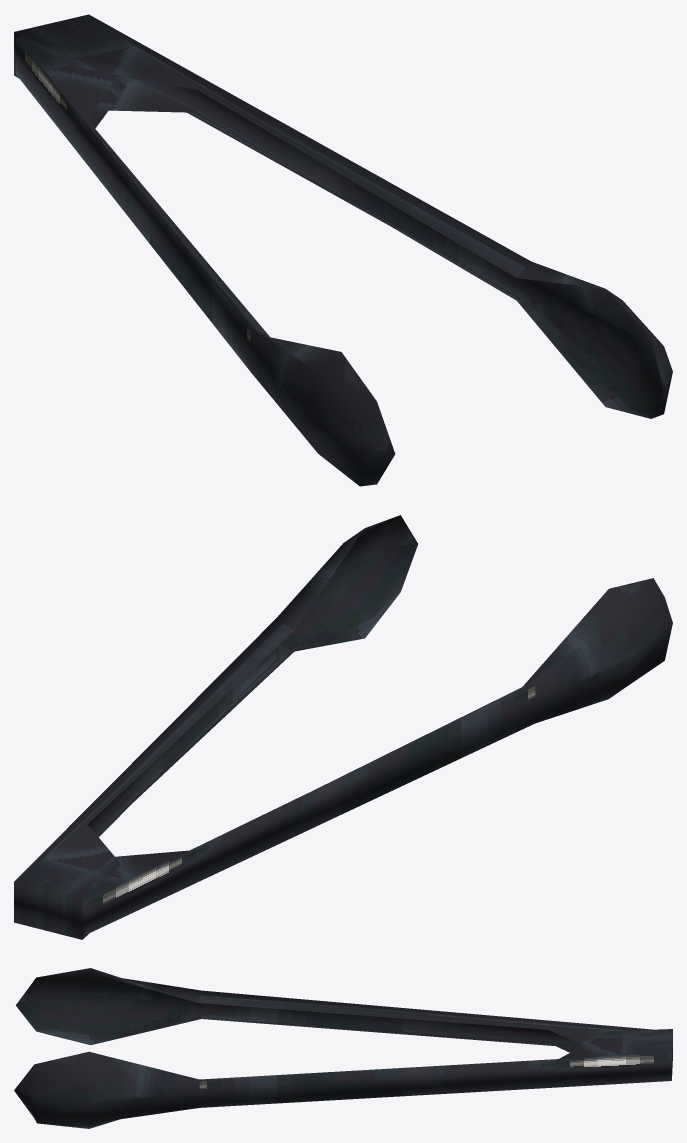
3 views of the same model, one above another, from view 1: azimuth 30°, elevation 25°; view 2: azimuth 150°, elevation 25°; view 3: azimuth 270°, elevation 25° (orthographic). The views are drawn at different scales.
Visible parts, largest first — view 1: 2761item2761; view 2: 2761item2761; view 3: 2761item2761.
Part boxes in pixels (<box>): 2761item2761: <box>14,14,672,486</box>; 2761item2761: <box>14,515,672,939</box>; 2761item2761: <box>14,968,672,1128</box>.
Bounding box in the file's own units: 0.2212 × 0.0757 × 0.585.
Materials: 1 (1 with a texture image).
